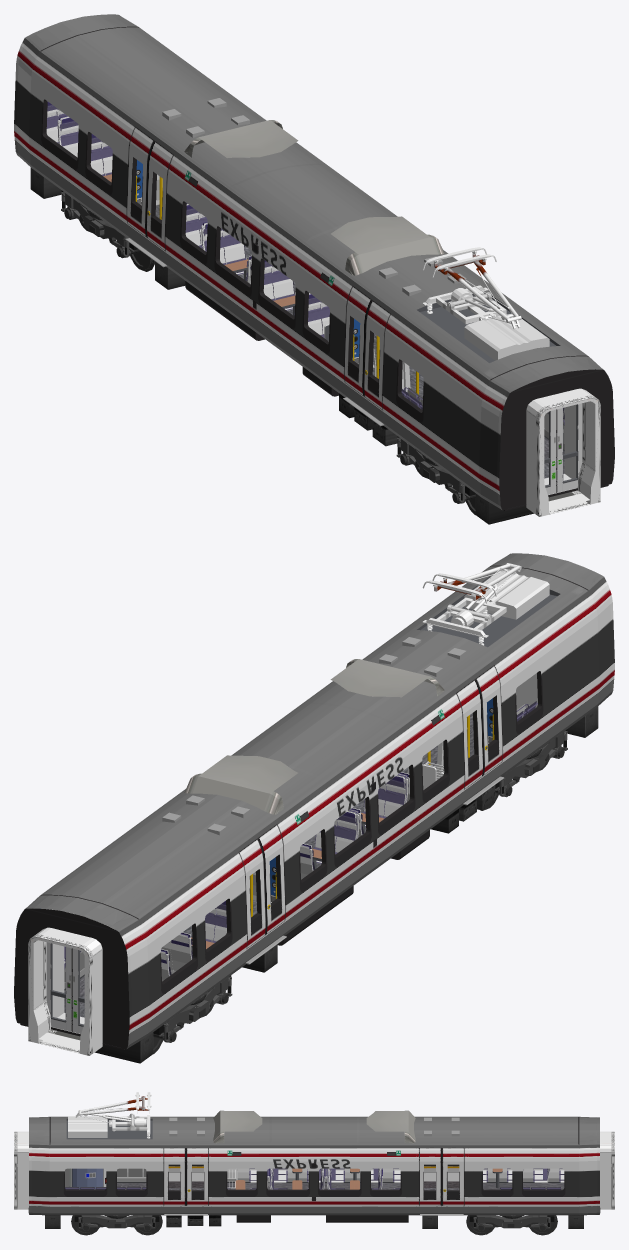
File: module_express_panto_5m.obj
3 views of the same model, one above another, from view 1: azimuth 30°, elevation 25°; view 2: azimuth 150°, elevation 25°; view 3: azimuth 270°, elevation 25° (orthographic). The views are drawn at different scales.
Visible parts, largest first — view 1: m_side, m_jibung, m_aircon, m_mak, m_backout, m_habu, m_dt71, m_panto, m_door_RB, m_door_RF, m_foldingchair, m_oscarchair (+4 smaller); view 2: m_side, m_jibung, m_aircon, m_mak, m_backout, m_habu, m_panto, m_door_RB, m_door_RF, m_dt71, m_oscarchair, m_interiors (+4 smaller); view 3: m_side, m_jibung, m_aircon, m_dt71, m_mak, m_habu, m_door_LB, m_door_LF, m_floor, m_oscarchair, m_foldingchair, m_panto (+5 smaller).
Boxes of the visible parts, x1,y1,x2,y2 form: m_side: [14, 15, 614, 510]; m_jibung: [25, 14, 603, 392]; m_aircon: [162, 98, 549, 360]; m_mak: [526, 388, 600, 516]; m_backout: [503, 369, 610, 509]; m_habu: [30, 167, 608, 524]; m_dt71: [61, 190, 475, 514]; m_panto: [422, 247, 521, 328]; m_door_RB: [127, 143, 366, 409]; m_door_RF: [146, 157, 384, 422]; m_foldingchair: [46, 101, 564, 443]; m_oscarchair: [185, 203, 295, 315]; m_side: [14, 555, 614, 1049]; m_jibung: [25, 553, 603, 931]; m_aircon: [162, 570, 549, 835]; m_mak: [28, 927, 102, 1055]; m_backout: [18, 908, 125, 1048]; m_habu: [20, 706, 598, 1063]; m_panto: [422, 563, 521, 645]; m_door_RB: [245, 695, 483, 961]; m_door_RF: [263, 681, 502, 947]; m_dt71: [153, 729, 567, 1053]; m_oscarchair: [249, 774, 407, 900]; m_interiors: [46, 761, 444, 1033]; m_side: [29, 1116, 599, 1215]; m_jibung: [29, 1117, 599, 1144]; m_aircon: [68, 1110, 459, 1143]; m_dt71: [71, 1215, 557, 1235]; m_mak: [14, 1131, 614, 1209]; m_habu: [28, 1208, 600, 1228]; m_door_LB: [186, 1158, 463, 1213]; m_door_LF: [164, 1158, 441, 1213]; m_floor: [117, 1181, 564, 1190]; m_oscarchair: [269, 1168, 400, 1189]; m_foldingchair: [65, 1168, 564, 1189]; m_panto: [75, 1092, 151, 1138].
Bounding box in the file's own units: 2.88 × 4.79 × 20.53.
30 materials, 30 textured.
